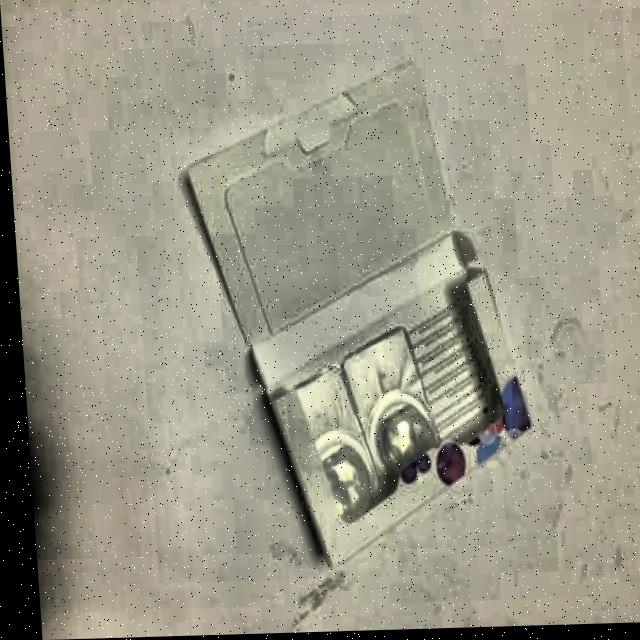trash: (177, 55, 545, 571)
